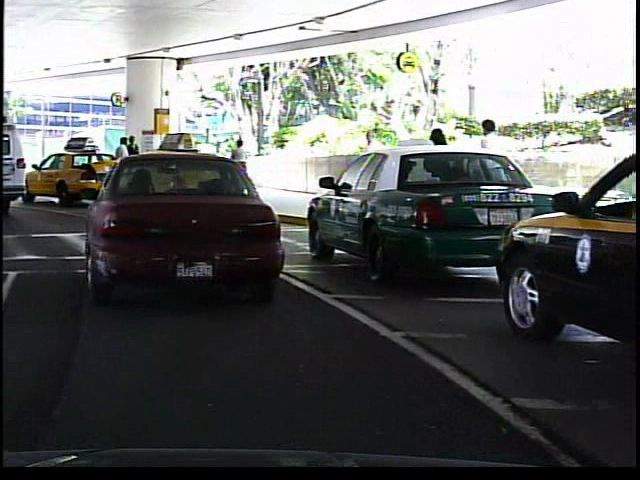person: (468, 112, 516, 230), (416, 120, 460, 226), (354, 121, 385, 203), (228, 136, 251, 191), (111, 135, 131, 190), (126, 132, 143, 189)
